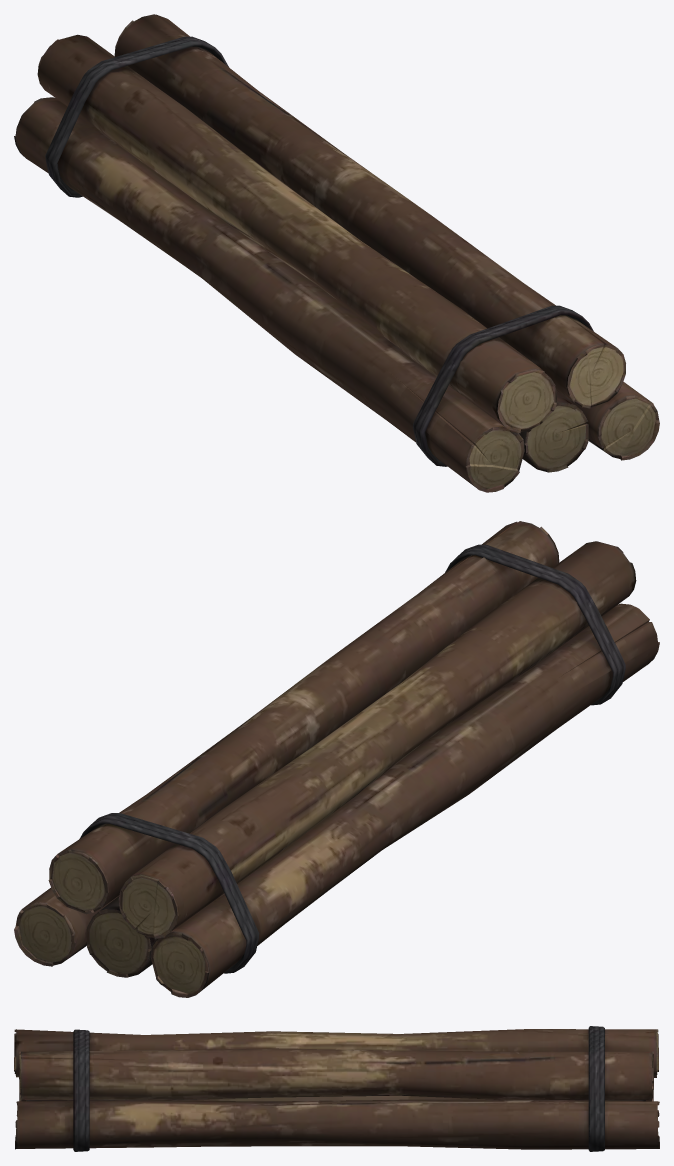
3 views of the same model, one above another, from view 1: azimuth 30°, elevation 25°; view 2: azimuth 150°, elevation 25°; view 3: azimuth 270°, elevation 25° (orthographic). The views are drawn at different scales.
Visible parts, largest first — view 1: body0_model0_lod0_mesh0; view 2: body0_model0_lod0_mesh0; view 3: body0_model0_lod0_mesh0.
Boxes of the visible parts, <box> form: body0_model0_lod0_mesh0: <box>14,14,659,492</box>; body0_model0_lod0_mesh0: <box>14,521,659,997</box>; body0_model0_lod0_mesh0: <box>14,1026,659,1151</box>.
Size of the model in its own units: 127 by 77.52 by 509.
1 material, 1 textured.
